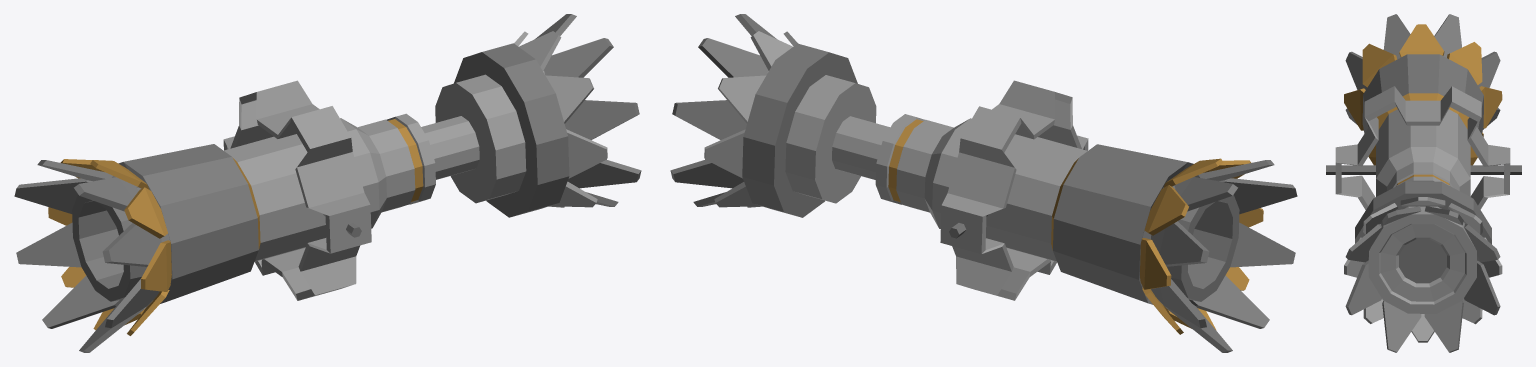
File: Props_Laser.glb
3 renders of one model, left to right at view 1: azimuth 30°, elevation 25°; view 2: azimuth 150°, elevation 25°; view 3: azimuth 270°, elevation 25°, orthographic. The views are drawn at different scales.
Visible parts, largest first — view 1: Props_Laser; view 2: Props_Laser; view 3: Props_Laser.
Part boxes in pixels (bbox=[...]): Props_Laser: bbox=[14, 14, 641, 352]; Props_Laser: bbox=[670, 14, 1297, 352]; Props_Laser: bbox=[1326, 14, 1521, 352].
Bounding box in the file's own units: 1.31 × 0.4388 × 0.4977.
